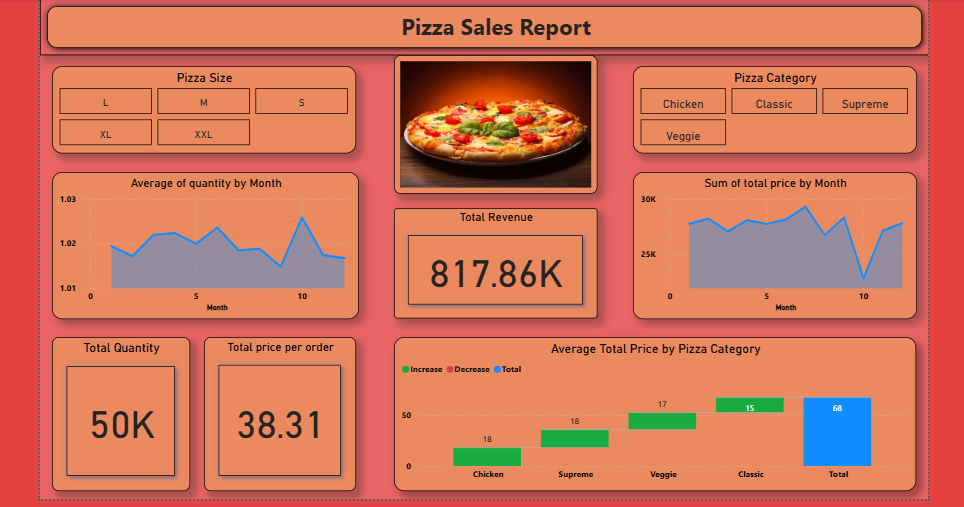

The page's visual inventory and layout, read from the dashboard file:
{"tool":"powerbi","page":{"name":"Page 1","canvas":[1280,720],"ordinal":0},"visuals":[{"type":"shape","box":[0,0,1280.2,80.6],"z":0},{"type":"textbox","box":[402.9,11.6,507.2,56.5],"z":1000},{"type":"advancedSlicerVisual","title":"Pizza Size","fields":{"Values":["pizza_sales.pizza_size"]},"box":[17.4,97.1,437.7,126.1],"z":2000},{"type":"advancedSlicerVisual","title":"Pizza Category","fields":{"Values":["pizza_sales.pizza_category"]},"box":[853.6,97.1,408.7,126.1],"z":3000},{"type":"areaChart","title":"Sum of total price by Month","fields":{"Category":["pizza_sales.Month"],"Y":["Sum(pizza_sales.total_price)"]},"box":[853.6,249.3,408.7,211.6],"z":4000},{"type":"areaChart","fields":{"Y":["Avg(pizza_sales.quantity)"],"Category":["pizza_sales.Month"]},"box":[17.4,249.3,442,211.6],"z":5000},{"type":"cardVisual","title":"Total Quantity","fields":{"Data":["Sum(pizza_sales.quantity)"]},"box":[17.4,487,198.6,221.7],"z":6000},{"type":"cardVisual","title":"Total price per order","fields":{"Data":["pizza_sales.total_price average per order_id"]},"box":[236.2,487,218.8,221.7],"z":7000},{"type":"cardVisual","title":"Total Revenue","fields":{"Data":["Sum(pizza_sales.total_price)"]},"box":[510.1,301.4,292.8,159.4],"z":8000},{"type":"waterfallChart","title":"Average Total Price by Pizza Category","fields":{"Category":["pizza_sales.pizza_category"],"Y":["Avg(pizza_sales.total_price)"]},"box":[510.1,487,752.2,221.7],"z":9000},{"type":"image","box":[510.1,81.2,292.8,200],"z":10000}]}

Visuals, with their boxes in screenshot pixels (x1, y1, x2, y2):
shape: pyautogui.locateOnScreen(38, 0, 927, 51)
textbox: pyautogui.locateOnScreen(318, 3, 670, 42)
"Pizza Size" advancedSlicerVisual: pyautogui.locateOnScreen(50, 62, 354, 150)
"Pizza Category" advancedSlicerVisual: pyautogui.locateOnScreen(631, 62, 914, 150)
"Sum of total price by Month" areaChart: pyautogui.locateOnScreen(631, 168, 914, 315)
areaChart - Avg(pizza_sales.quantity) x pizza_sales.Month: pyautogui.locateOnScreen(50, 168, 357, 315)
"Total Quantity" cardVisual: pyautogui.locateOnScreen(50, 333, 188, 487)
"Total price per order" cardVisual: pyautogui.locateOnScreen(202, 333, 354, 487)
"Total Revenue" cardVisual: pyautogui.locateOnScreen(392, 204, 595, 315)
"Average Total Price by Pizza Category" waterfallChart: pyautogui.locateOnScreen(392, 333, 914, 487)
image: pyautogui.locateOnScreen(392, 51, 595, 190)
